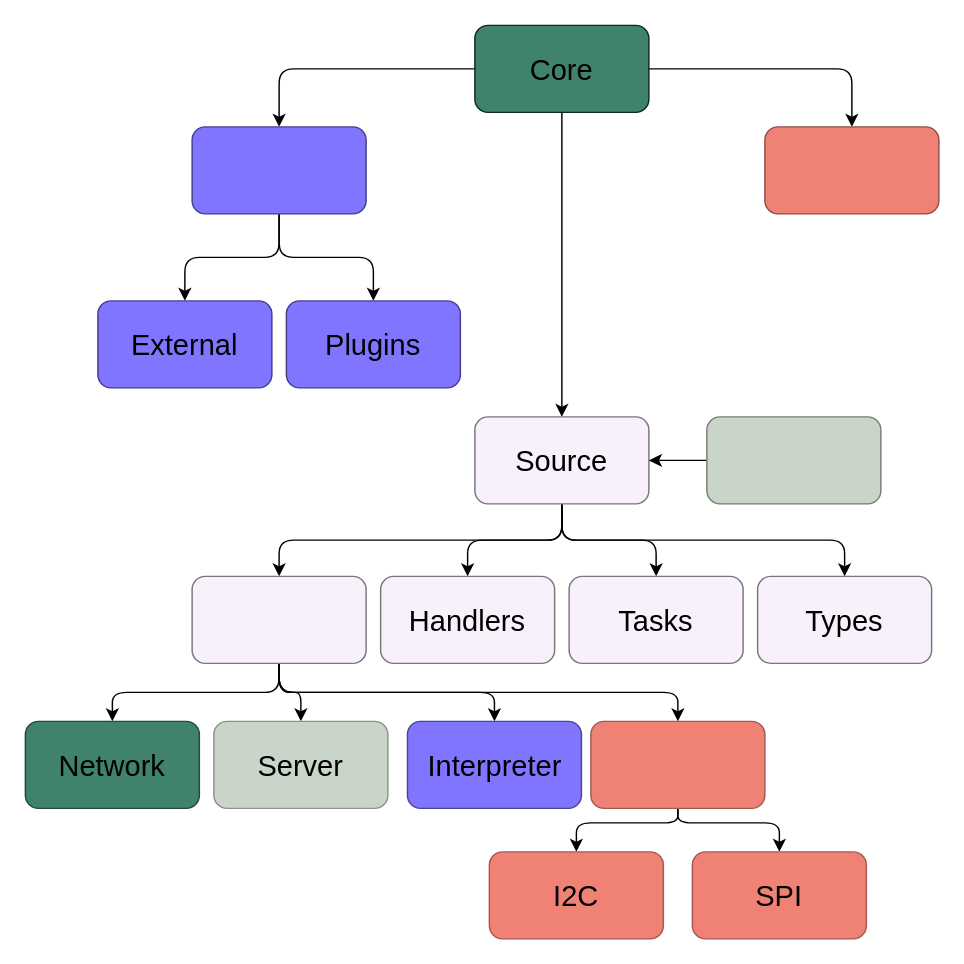
Image size: 964x964. Some labels were removed from this diagram. Each missing label, with the centre of its shape:
"Blackboard" goes at (x=793, y=459).
"Brain" goes at (x=278, y=619).
"Components" goes at (x=278, y=169).
"Expansion" goes at (x=677, y=764).
"Tests" goes at (x=851, y=169).
